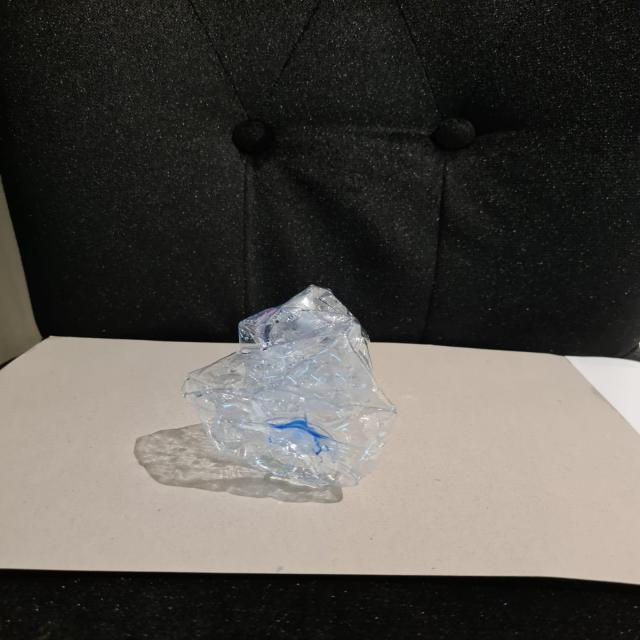bottle: (175, 286, 420, 508)
